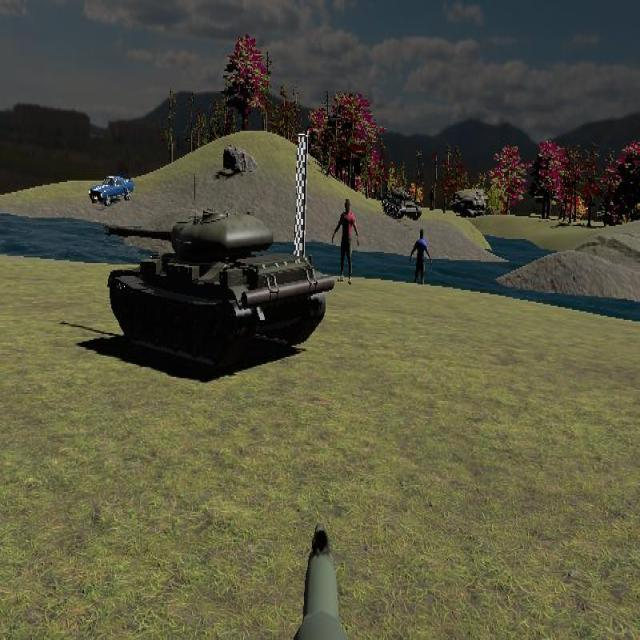Human: (332, 198, 359, 284)
Tank: (103, 207, 334, 370), (383, 186, 422, 221)
car: (88, 174, 135, 207)
